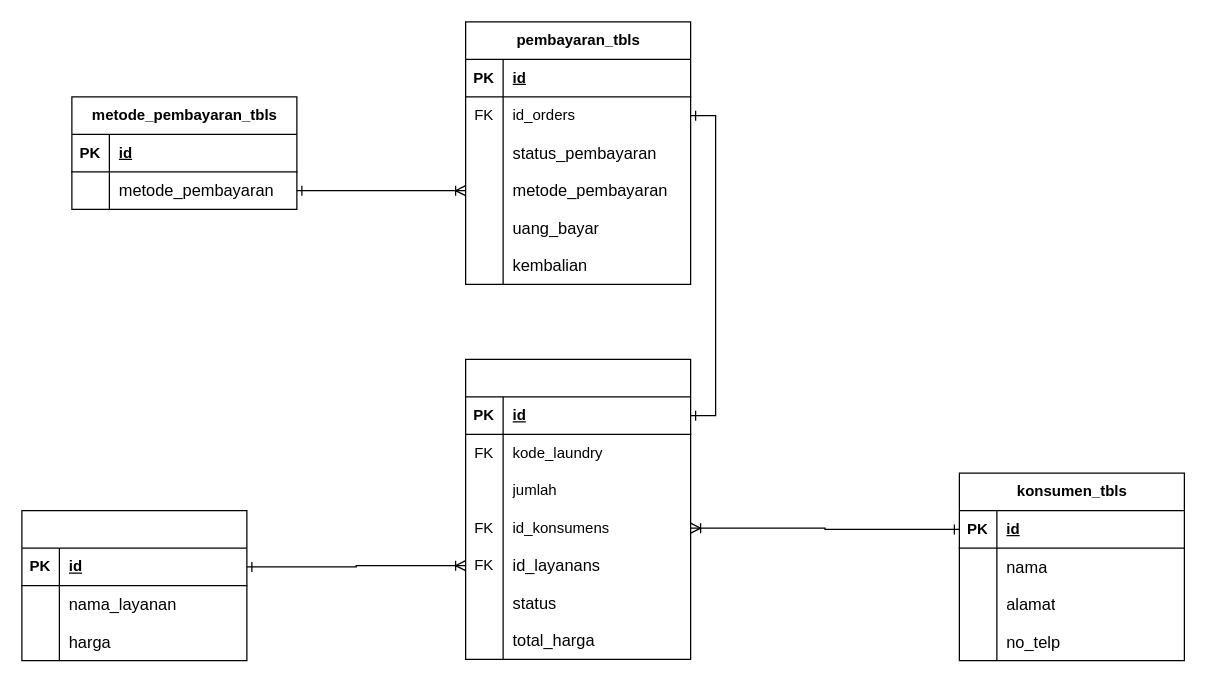
Image size: 1206x683. Some labels were removed from this diagram. The box of each missing label's shape, as (x1, y1, x2, y2) in pixels:
layanan_tbls: (21, 509, 247, 661)
order_tbls: (464, 358, 691, 659)
